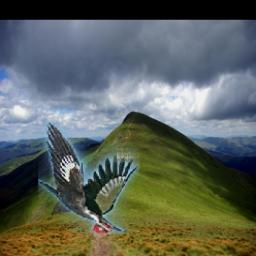Woodpecker: (38, 122, 139, 234)
